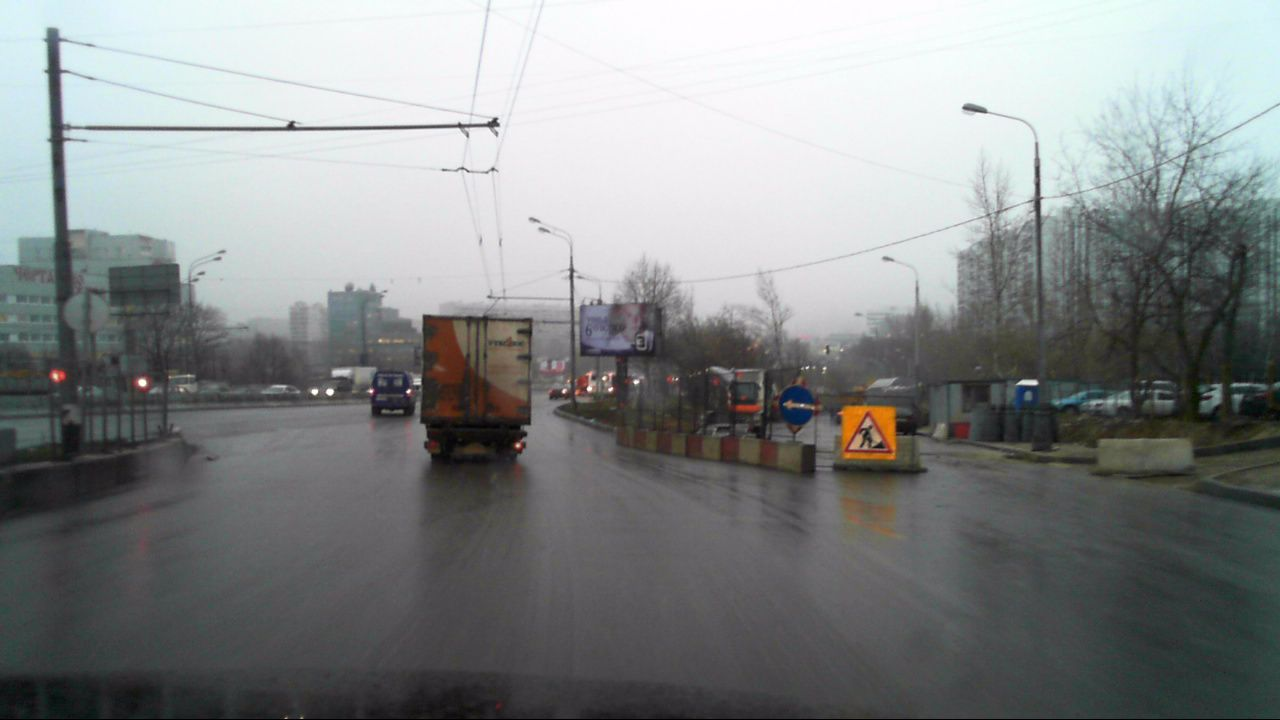Turn Left: (780, 385, 815, 425)
